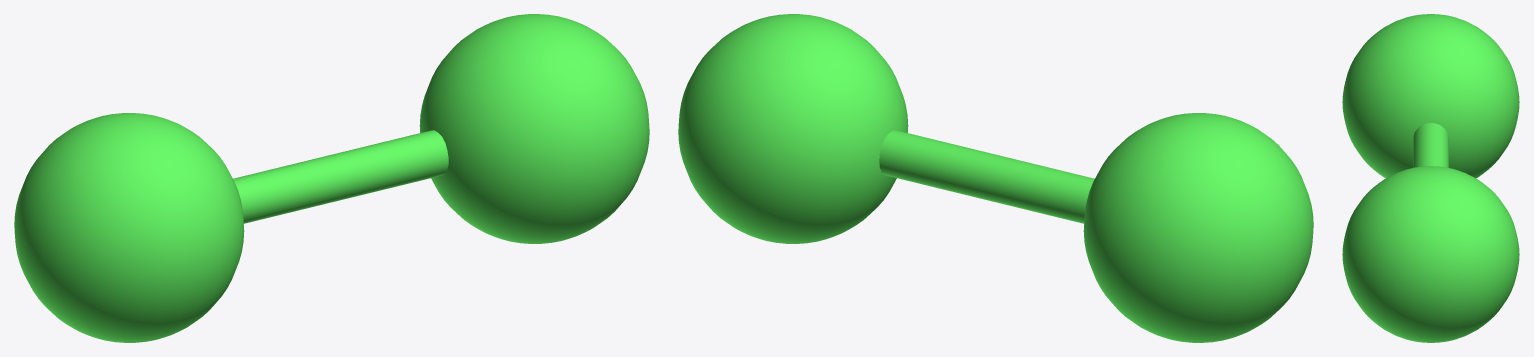
Rendered from chlorine.fbx.
3 renders of one model, left to right at view 1: azimuth 30°, elevation 25°; view 2: azimuth 150°, elevation 25°; view 3: azimuth 270°, elevation 25°, orthographic. The views are drawn at different scales.
Visible parts, largest first — view 1: Atom_L, Atom_R, Bond; view 2: Atom_L, Atom_R, Bond; view 3: Atom_R, Atom_L, Bond.
Part boxes in pixels (box(x1,y1,x2,y2)): Atom_L: box(14, 113, 244, 342); Atom_R: box(419, 14, 649, 243); Bond: box(233, 130, 448, 223); Atom_L: box(1083, 113, 1313, 342); Atom_R: box(678, 14, 908, 243); Bond: box(879, 130, 1094, 223); Atom_R: box(1342, 166, 1519, 342); Atom_L: box(1342, 14, 1519, 178); Bond: box(1413, 123, 1448, 167).
Size of the model in its own units: 300 by 99 by 99.
